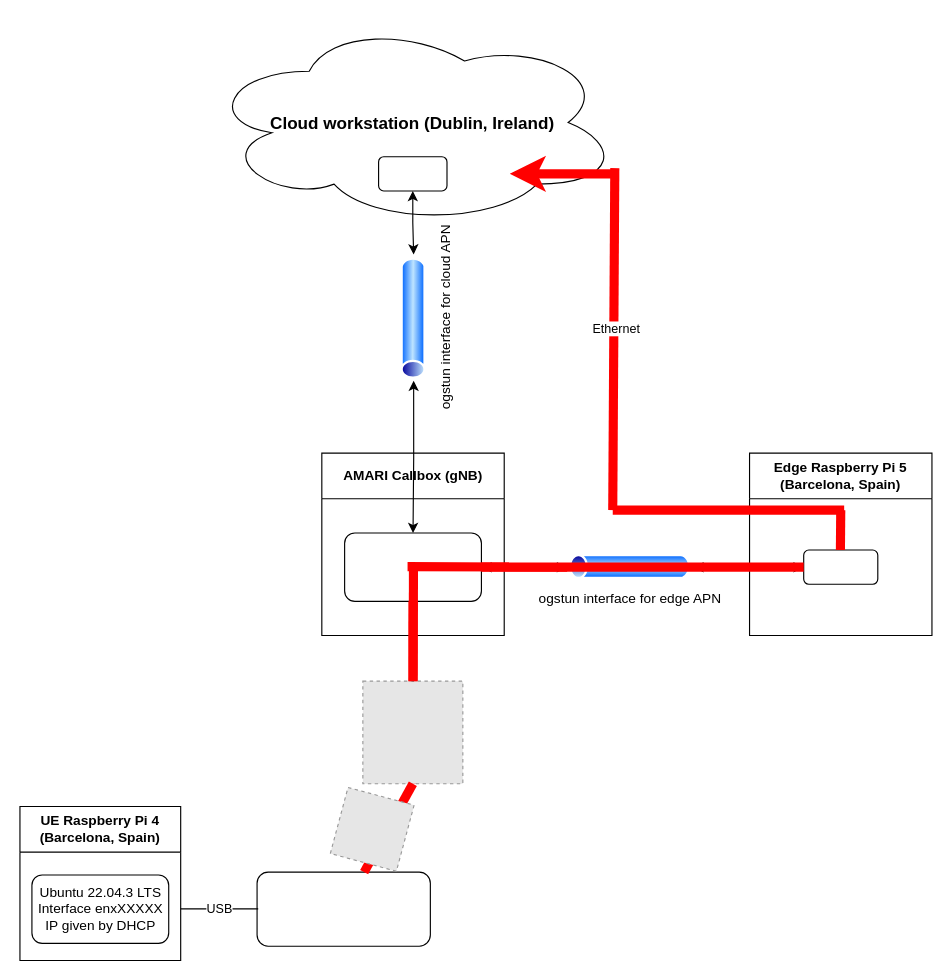
The diagram is 952 pixels wide and 980 high, and some of its shapes have lost their labels. Grey dashed boxes stand in for pictures. Each missing label, with the centre of its shape:
"Amarisoft gNB software" belongs at (412,566).
"Quectel RM502Q-AE" belongs at (343,908).
"UPF1" belongs at (412,173).
"UPF2" belongs at (840,566).
